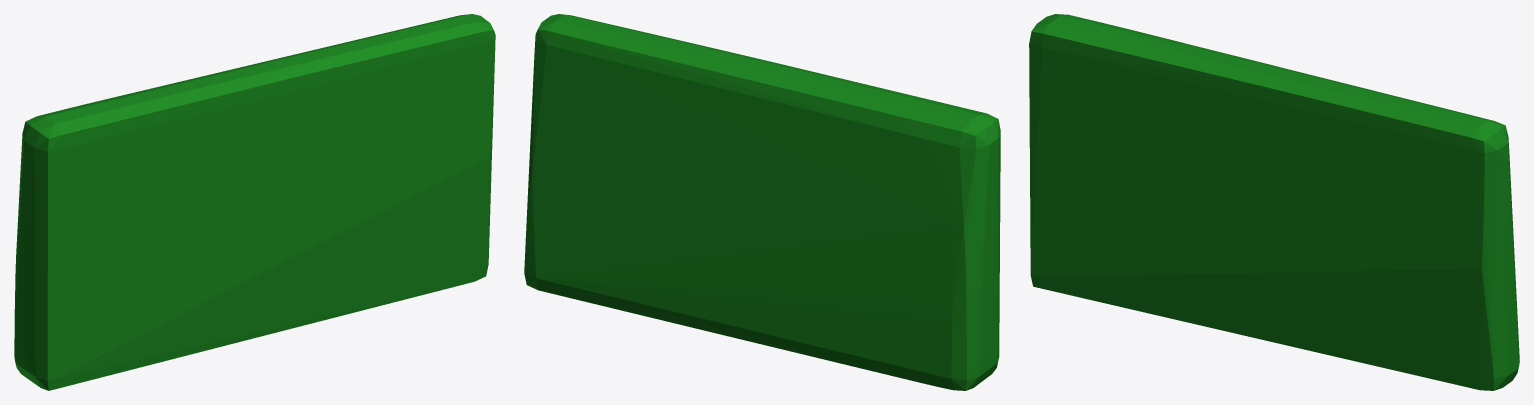
File: left-hip-pitch-0_part_8.obj
3 views of the same model, side by side, from view 1: azimuth 30°, elevation 25°; view 2: azimuth 150°, elevation 25°; view 3: azimuth 330°, elevation 25° (orthographic). The views are drawn at different scales.
Bounding box in the file's own units: 0.0662 × 0.0365 × 0.00938.
